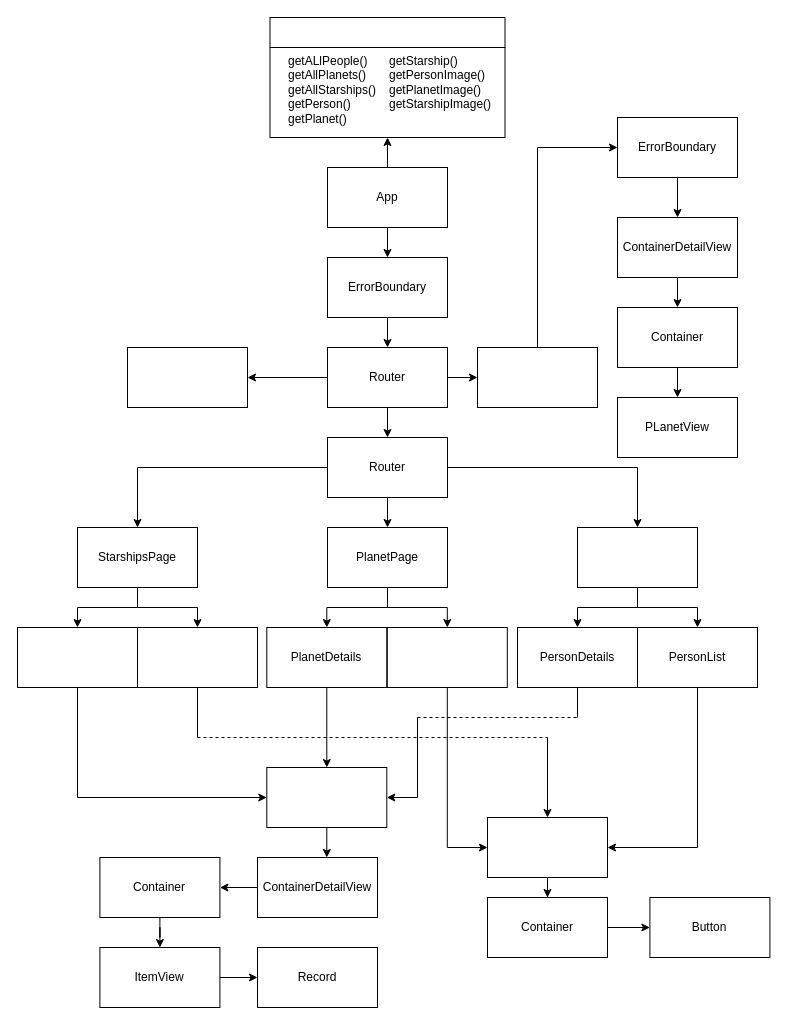
The diagram is 788 pixels wide and 1025 high, and some of its shapes have lost their labels. The shapes that lost their labels are listed below. From the top down, each one's centre as x and y in pixels, then its label:
At point (387, 32): "SwapiService API".
At point (187, 377): "Header".
At point (537, 377): "RandomPlanet".
At point (637, 557): "PeoplePage".
At point (77, 657): "StarshipsDetails".
At point (197, 657): "StarshipsList".
At point (446, 657): "PlanetList".
At point (326, 797): "ItemDetail".
At point (547, 847): "BodySelect".
